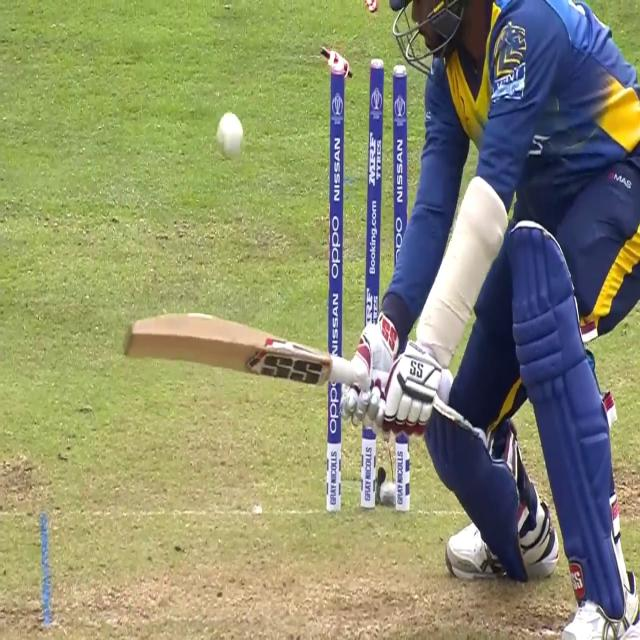ball: (215, 108, 245, 164)
